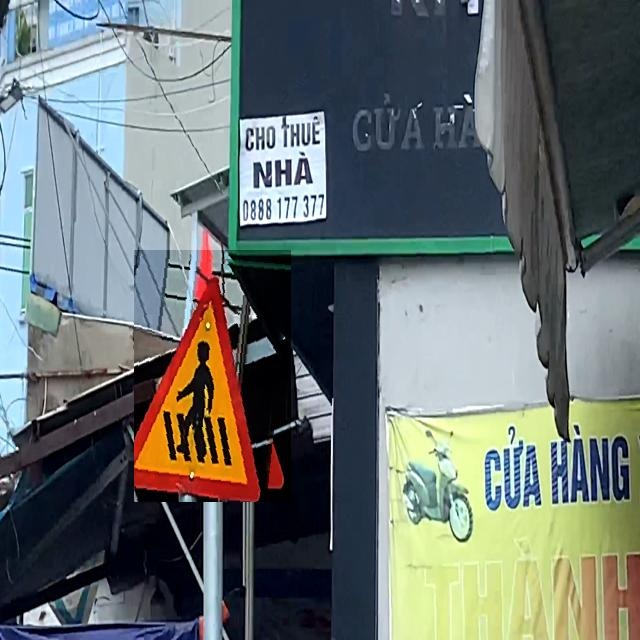bien_nguy_hiem: (134, 250, 291, 502)
